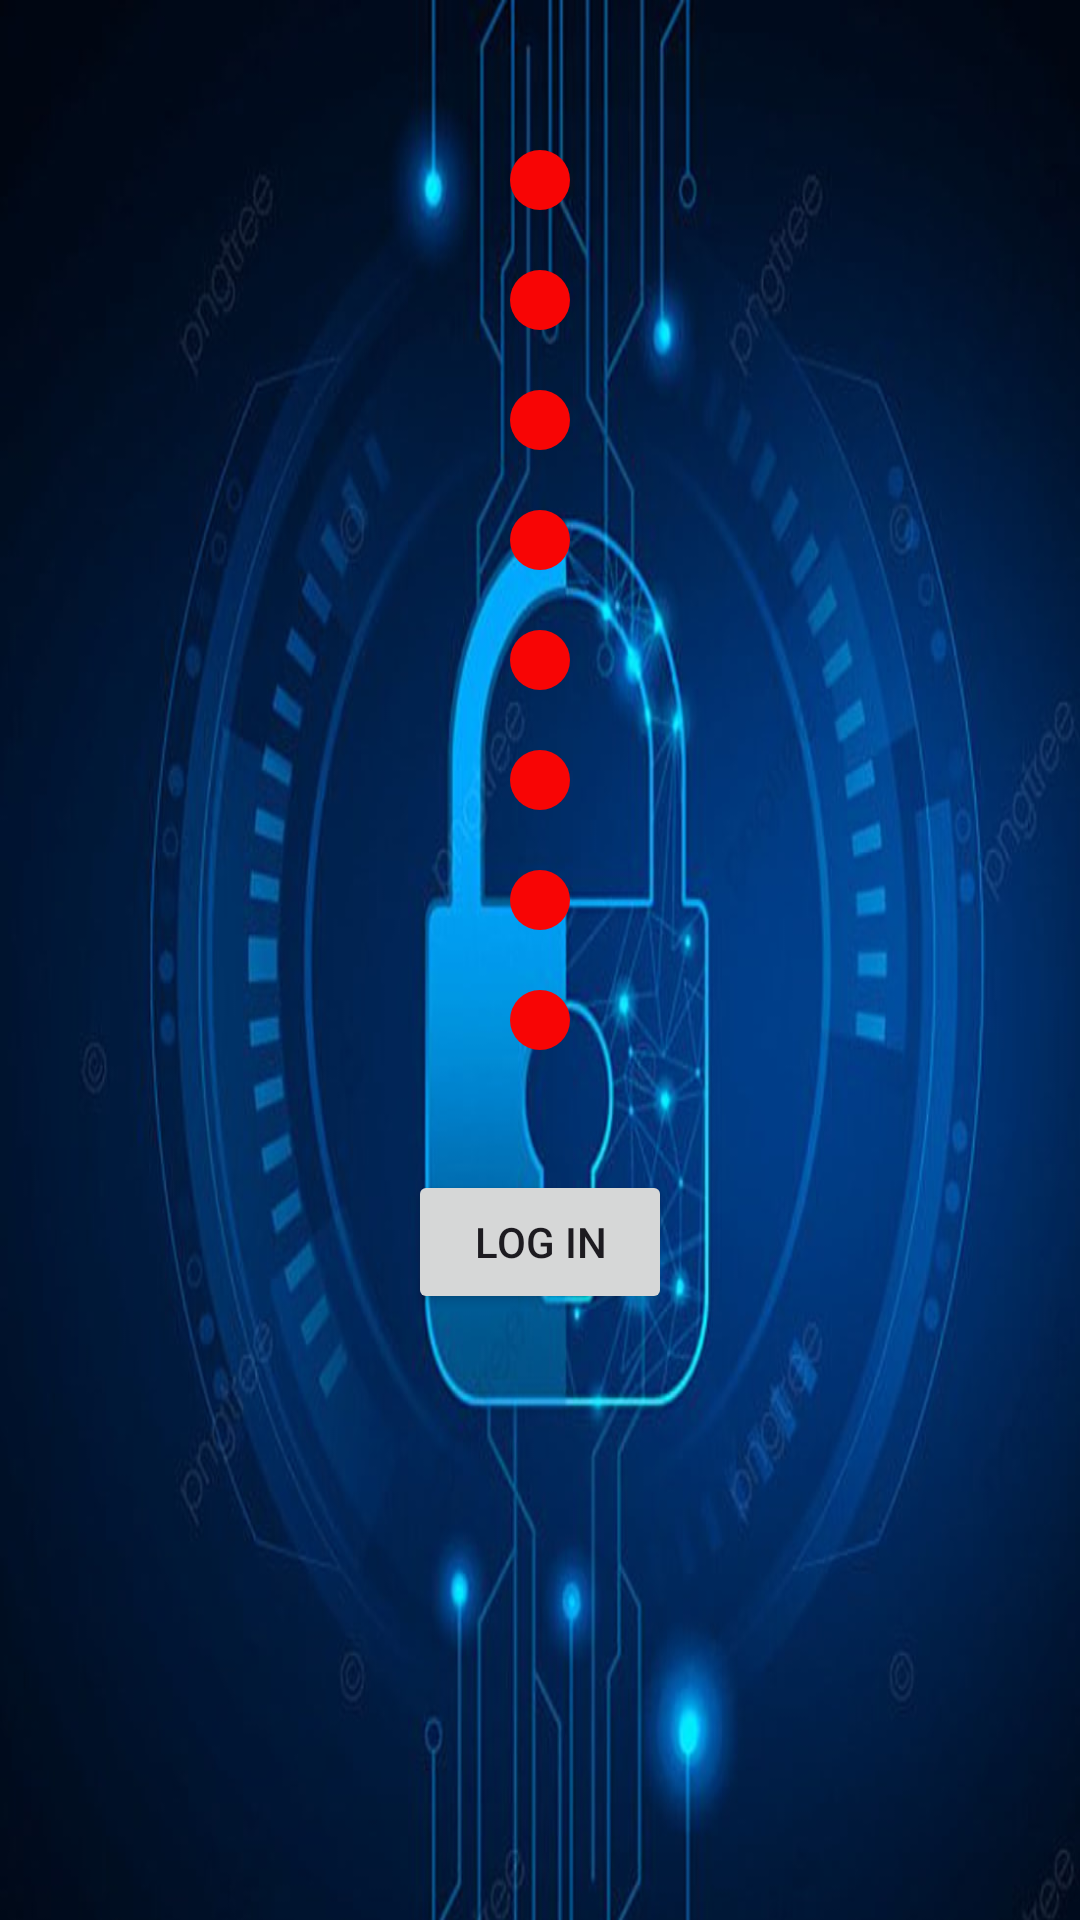

Where to tap for icons on this 1080w x 1920h app screen, as (x,y):
dot: (540,180), (540,300), (540,420), (540,540), (540,660), (540,780), (540,900), (540,1020)
